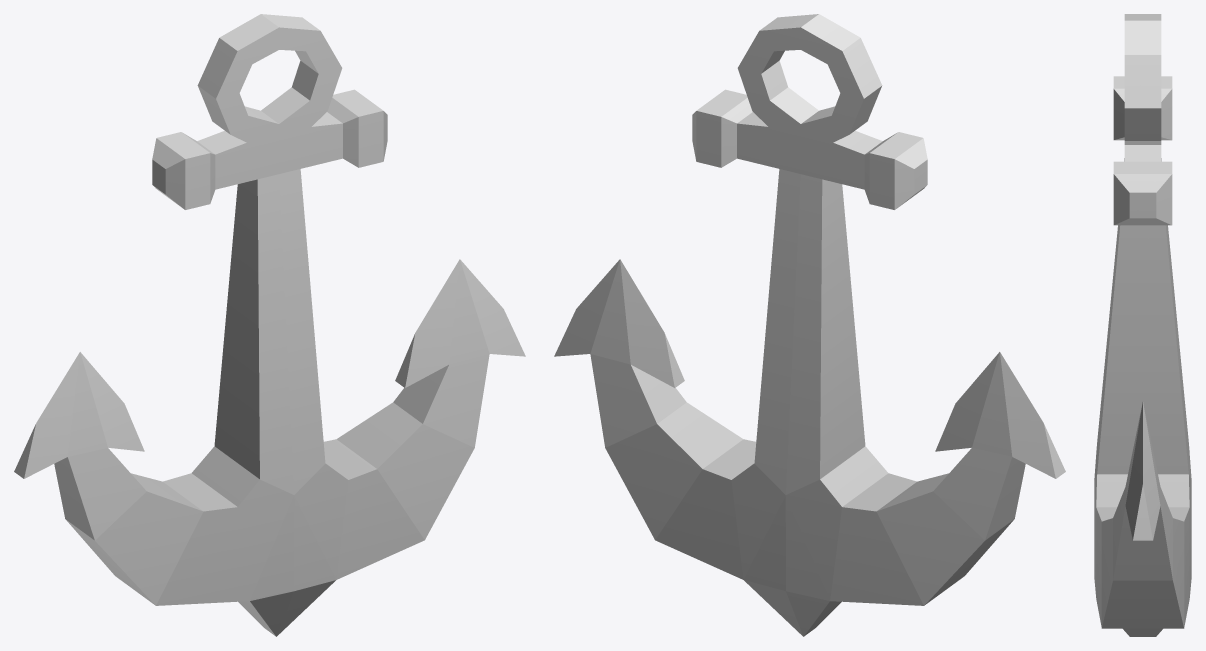
File: Anchor_A.fbx
3 views of the same model, side by side, from view 1: azimuth 30°, elevation 25°; view 2: azimuth 150°, elevation 25°; view 3: azimuth 270°, elevation 25° (orthographic).
Parts seen in each view (by area): view 1: Anchor_A; view 2: Anchor_A; view 3: Anchor_A.
Part boxes in pixels (<box>): Anchor_A: <box>14,14,525,636</box>; Anchor_A: <box>554,14,1065,636</box>; Anchor_A: <box>1094,14,1191,636</box>.
Bounding box in the file's own units: 213 × 248 × 35.52.
